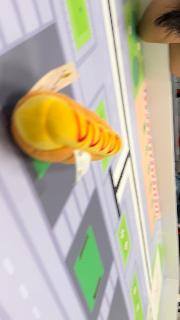hotdog: (13, 92, 123, 164)
